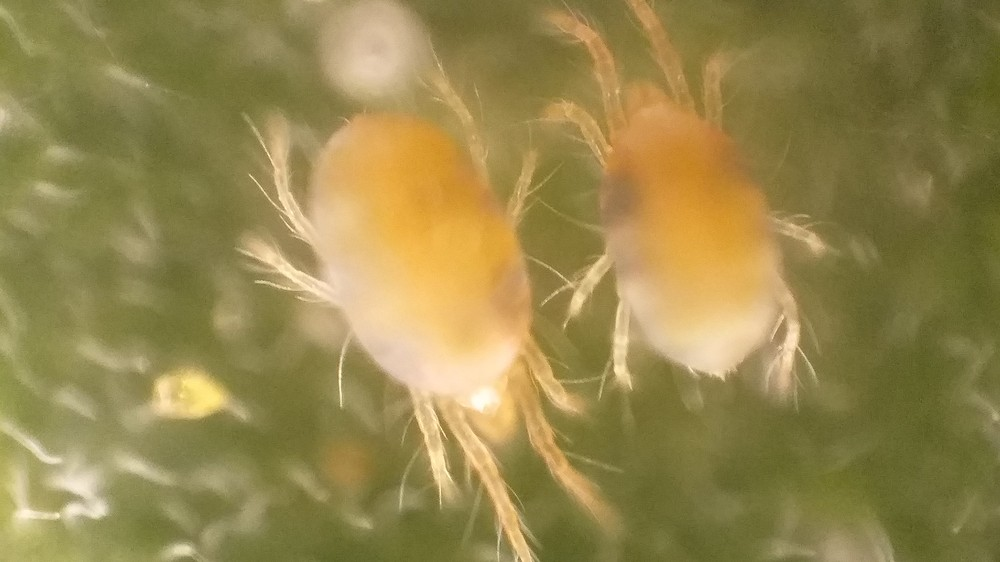Aracnido Rojo: (230, 62, 621, 556), (541, 13, 860, 445)
